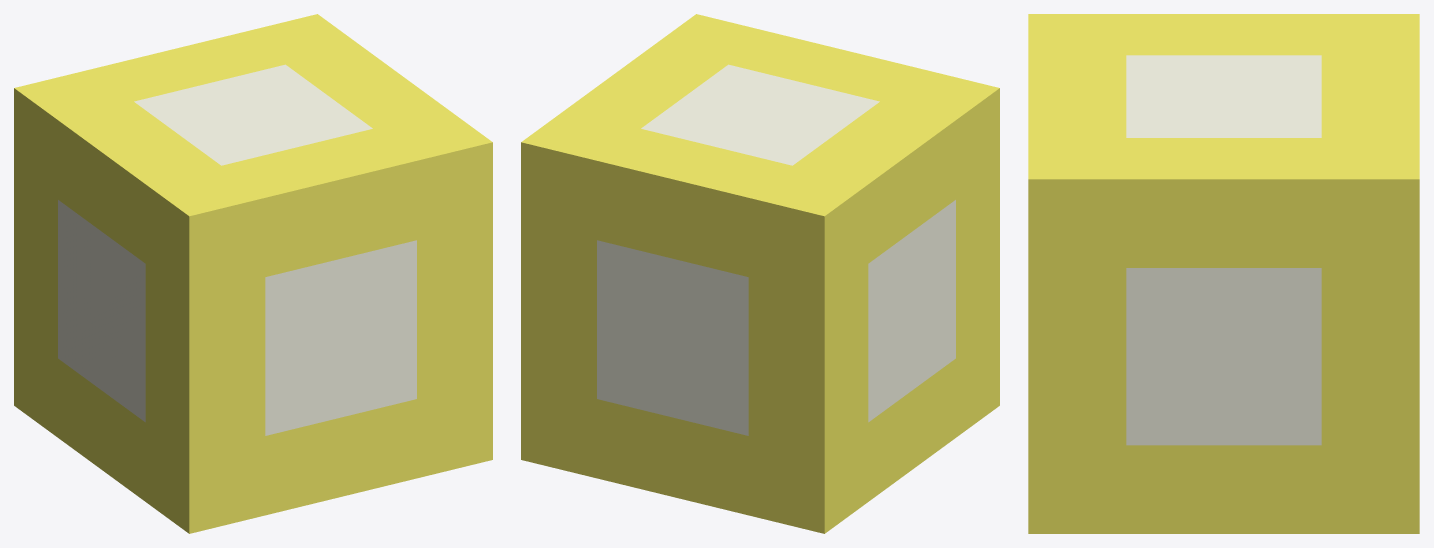
File: battery.obj
3 renders of one model, left to right at view 1: azimuth 30°, elevation 25°; view 2: azimuth 150°, elevation 25°; view 3: azimuth 270°, elevation 25°, orthographic. The views are drawn at different scales.
Size of the model in its own units: 4 by 4 by 4.
Materials: 1 (1 with a texture image).
